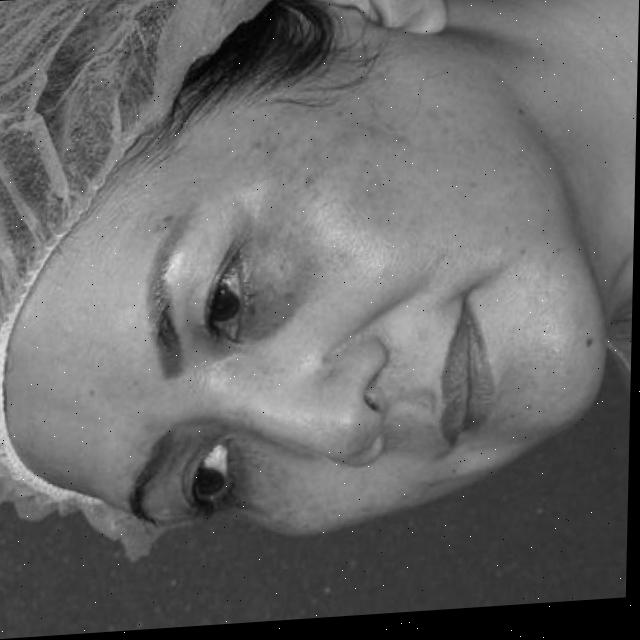Melasma: (246, 93, 453, 337), (237, 429, 396, 528)
